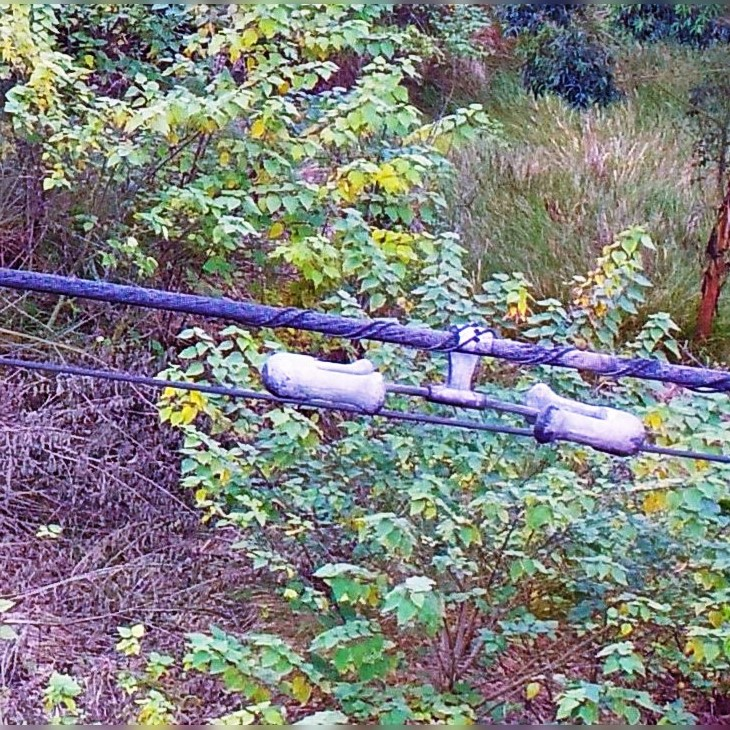Shockproof hammer: (257, 301, 649, 466)
